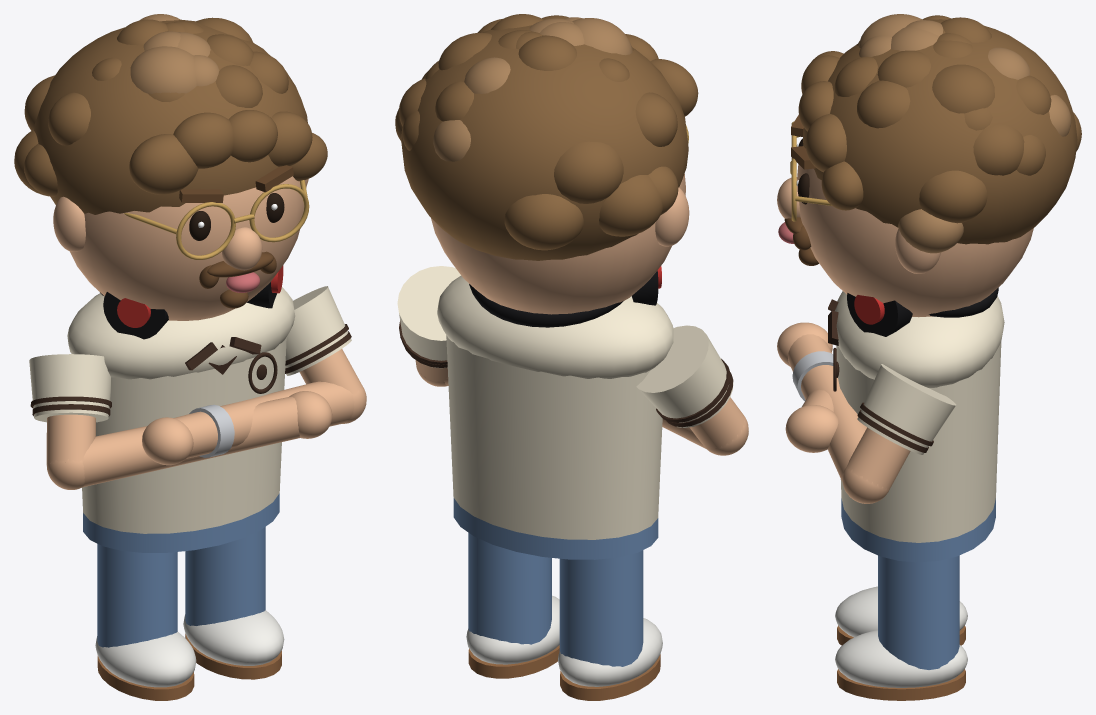
The model's file is pencho3d-chibi.glb.
3 renders of one model, left to right at view 1: azimuth 30°, elevation 25°; view 2: azimuth 150°, elevation 25°; view 3: azimuth 270°, elevation 25°, orthographic. The views are drawn at different scales.
Parts seen in each view (by area): view 1: esfera|pelo (×15), esfera|piel (×6), cil-1.08-1|camiseta, cil-1-1|vaquero (×3), esfera|camiseta, cil-1-0.8928571428571429|piel (×2), esfera|zapatilla (×2), cil-1-0.8799999999999999|camiseta (×2), esfera|mecha (×3), cil-1-1|piel (×2), cil-1-1|suela (×2), toro-0.08|montura (×2) (+5 smaller); view 2: esfera|pelo (×11), cil-1.08-1|camiseta, cil-1-1|vaquero (×3), esfera|camiseta, esfera|piel (×2), cil-1-0.8799999999999999|camiseta (×2), esfera|zapatilla (×2), esfera|mecha (×4), cil-1-1|suela (×2), toro-0.14|cascos, cil-1-1|piel, cil-1-1|cascos (+1 smaller); view 3: esfera|pelo (×16), esfera|piel (×6), cil-1.08-1|camiseta, cil-1-1|vaquero (×2), esfera|camiseta, esfera|mecha (×6), esfera|zapatilla (×2), cil-1-0.8799999999999999|camiseta, cil-1-0.8928571428571429|piel, cil-1-1|piel, cil-1-1|suela, cil-1-1|cascos (+4 smaller).
Boxes of the visible parts, x1,y1,x2,y2 form: esfera|pelo (×15): (14, 17, 327, 214); esfera|piel (×6): (47, 176, 332, 489); cil-1.08-1|camiseta: (82, 337, 286, 533); cil-1-1|vaquero (×3): (83, 493, 279, 647); esfera|camiseta: (67, 287, 295, 379); cil-1-0.8928571428571429|piel (×2): (82, 381, 354, 487); esfera|zapatilla (×2): (95, 610, 284, 687); cil-1-0.8799999999999999|camiseta (×2): (29, 286, 351, 422); esfera|mecha (×3): (130, 32, 219, 93); cil-1-1|piel (×2): (46, 349, 362, 465); cil-1-1|suela (×2): (97, 634, 281, 700); toro-0.08|montura (×2): (176, 184, 309, 259); esfera|pelo (×11): (399, 25, 698, 260); cil-1.08-1|camiseta: (446, 335, 662, 539); cil-1-1|vaquero (×3): (453, 498, 658, 666); esfera|camiseta: (437, 275, 673, 378); esfera|piel (×2): (431, 174, 689, 314); cil-1-0.8799999999999999|camiseta (×2): (397, 266, 733, 427); esfera|zapatilla (×2): (466, 595, 662, 686); esfera|mecha (×4): (433, 18, 632, 161); cil-1-1|suela (×2): (468, 645, 660, 700); toro-0.14|cascos: (469, 284, 623, 327); cil-1-1|piel: (689, 397, 745, 449); cil-1-1|cascos: (631, 270, 658, 305); esfera|pelo (×16): (798, 17, 1077, 244); esfera|piel (×6): (777, 164, 1033, 503); cil-1.08-1|camiseta: (836, 342, 1001, 542); cil-1-1|vaquero (×2): (841, 498, 995, 669); esfera|camiseta: (835, 291, 1004, 387); esfera|mecha (×6): (858, 14, 1071, 253); esfera|zapatilla (×2): (835, 586, 967, 687); cil-1-0.8799999999999999|camiseta: (857, 364, 956, 454); cil-1-0.8928571428571429|piel: (788, 334, 866, 481); cil-1-1|piel: (846, 427, 910, 490); cil-1-1|suela: (837, 669, 965, 700); cil-1-1|cascos: (847, 293, 912, 336).
Size of the model in its own units: 0.856 by 1.63 by 0.7102.
